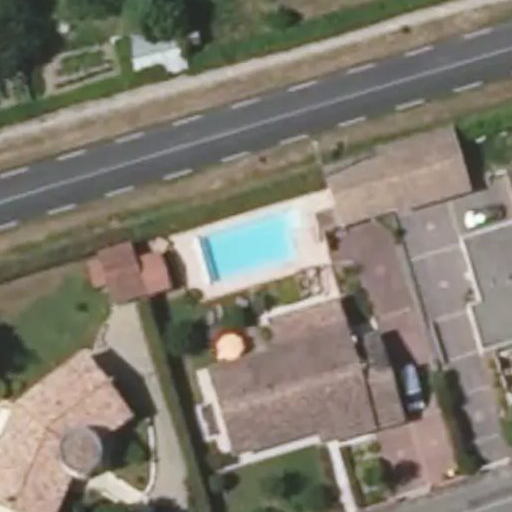pool: (201, 234, 318, 249)
